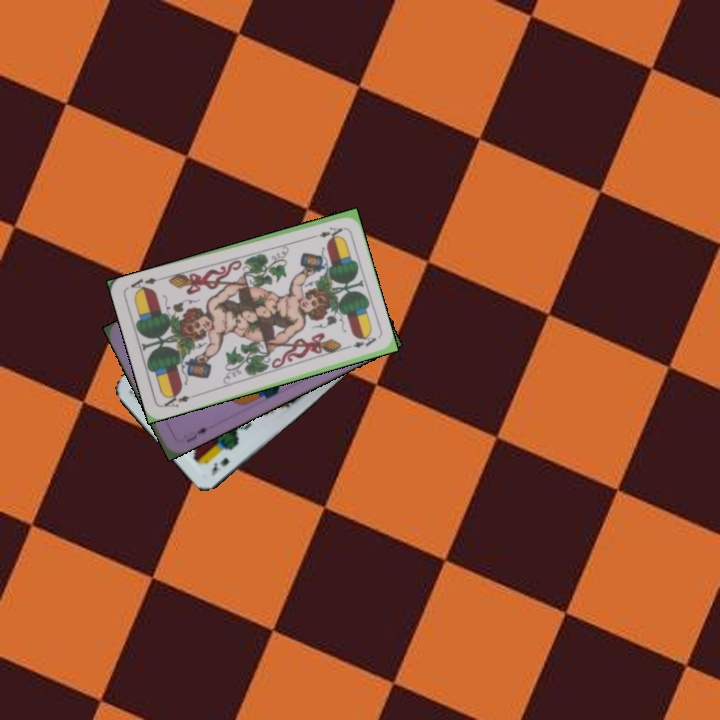EA: (159, 389, 198, 410), (306, 223, 345, 241)
EK: (207, 453, 232, 478)
EU: (182, 423, 211, 446)
